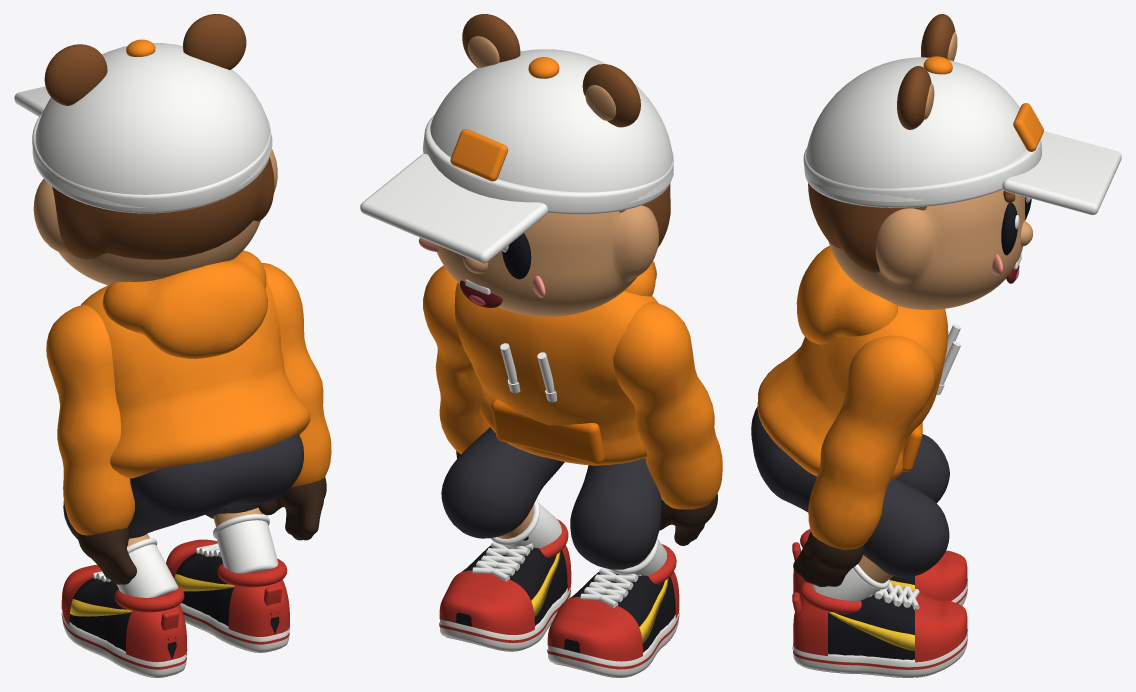
The model's file is OrangeRider.fbx.
The picture shows the model from 3 angles, left to right: view 1: azimuth 30°, elevation 25°; view 2: azimuth 150°, elevation 25°; view 3: azimuth 270°, elevation 25°; orthographic projection. The views are drawn at different scales.
Parts seen in each view (by area): view 1: HeadMesh, BodyMesh, ArmLMesh, LegRMesh, LegLMesh, ArmRMesh; view 2: HeadMesh, BodyMesh, ArmLMesh, LegRMesh, LegLMesh, ArmRMesh; view 3: HeadMesh, BodyMesh, ArmRMesh, LegRMesh, LegLMesh.
Part boxes in pixels (<box>): HeadMesh: <box>14,14,277,285</box>; BodyMesh: <box>63,250,310,539</box>; ArmLMesh: <box>46,304,136,584</box>; LegRMesh: <box>166,507,289,652</box>; LegLMesh: <box>61,533,187,677</box>; ArmRMesh: <box>258,263,331,540</box>; HeadMesh: <box>360,14,673,316</box>; BodyMesh: <box>441,261,661,569</box>; ArmLMesh: <box>613,302,722,545</box>; LegRMesh: <box>439,499,571,651</box>; LegLMesh: <box>547,537,679,677</box>; ArmRMesh: <box>423,265,489,458</box>; HeadMesh: <box>803,14,1121,309</box>; BodyMesh: <box>751,245,960,577</box>; ArmRMesh: <box>793,335,935,586</box>; LegRMesh: <box>792,555,967,677</box>; LegLMesh: <box>792,529,967,607</box>.
Size of the model in its own units: 0.6152 by 1.35 by 0.7673.
